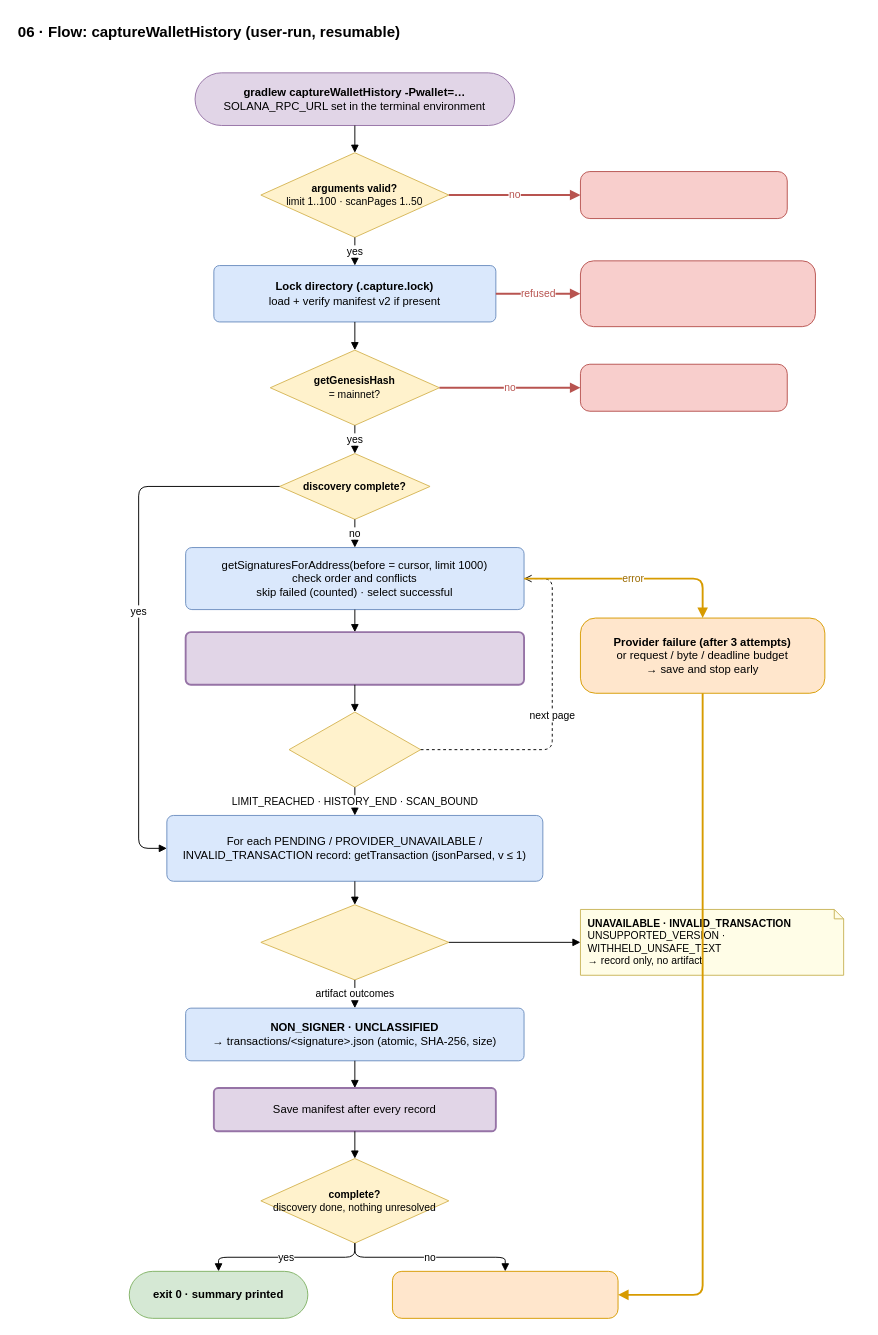
Image size: 878x1335. Some labels were removed from this diagram. Here are the shapes that lost their labels. From the top down, the centre of each, then its label:
point 683,195: exit 2 · INVALID_ARGUMENTS
point 697,293: exit 1 CAPTURE_IN_PROGRESS · MANIFEST_VERSION RESUME_IDENTITY · MANIFEST_HASH
point 683,387: exit 1 · MAINNET_REQUIRED
point 354,658: Checkpoint manifest selection + counters + cursor · atomic write + SHA-256
point 354,749: stopped?
point 354,942: WalletTransactionEvidence .classify
point 505,1294: exit 1 · CAPTURE_INCOMPLETE rerun to resume
